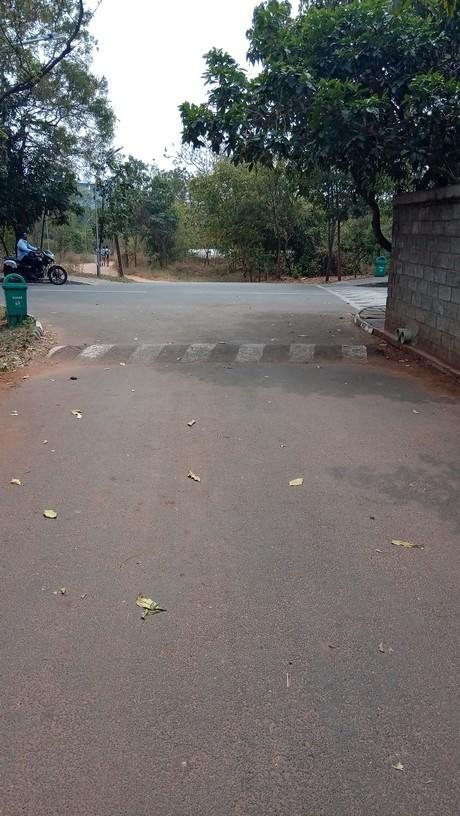speed-bump: (41, 341, 390, 365)
